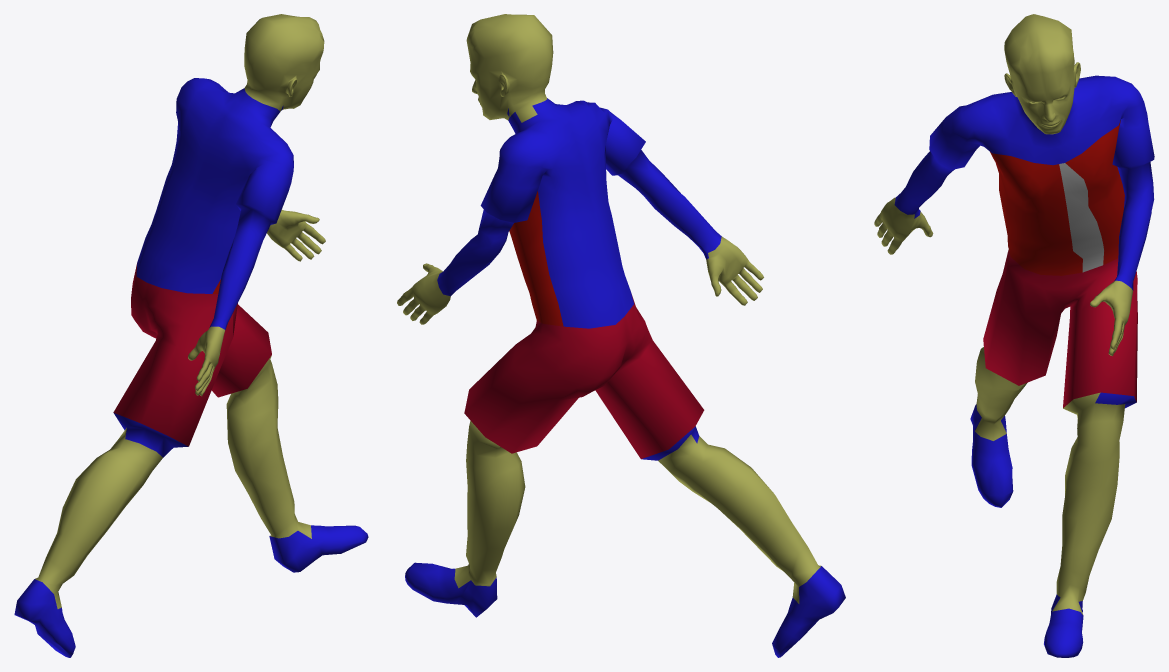
The model's file is player_000014.obj.
The picture shows the model from 3 angles, left to right: view 1: azimuth 30°, elevation 25°; view 2: azimuth 150°, elevation 25°; view 3: azimuth 270°, elevation 25°; orthographic projection. The views are drawn at different scales.
Visible parts, largest first — view 1: soccerplayer_mesh; view 2: soccerplayer_mesh; view 3: soccerplayer_mesh.
Part boxes in pixels (<box>): soccerplayer_mesh: <box>14,14,368,657</box>; soccerplayer_mesh: <box>397,14,845,657</box>; soccerplayer_mesh: <box>874,14,1154,657</box>.
Bounding box in the file's own units: 3.49 × 4.98 × 2.07.
